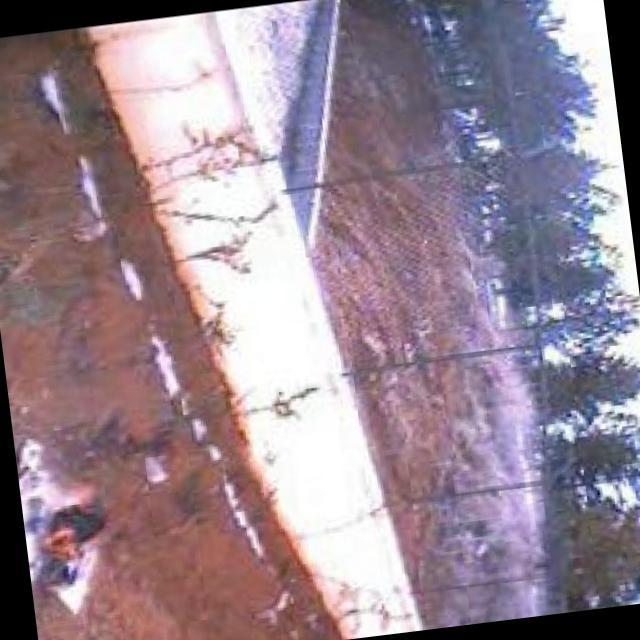Fire: (20, 484, 110, 585)
